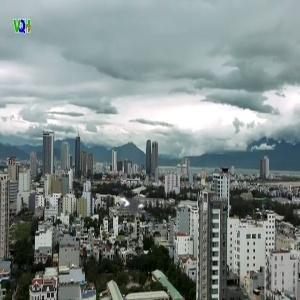drone: (98, 171, 171, 244)
